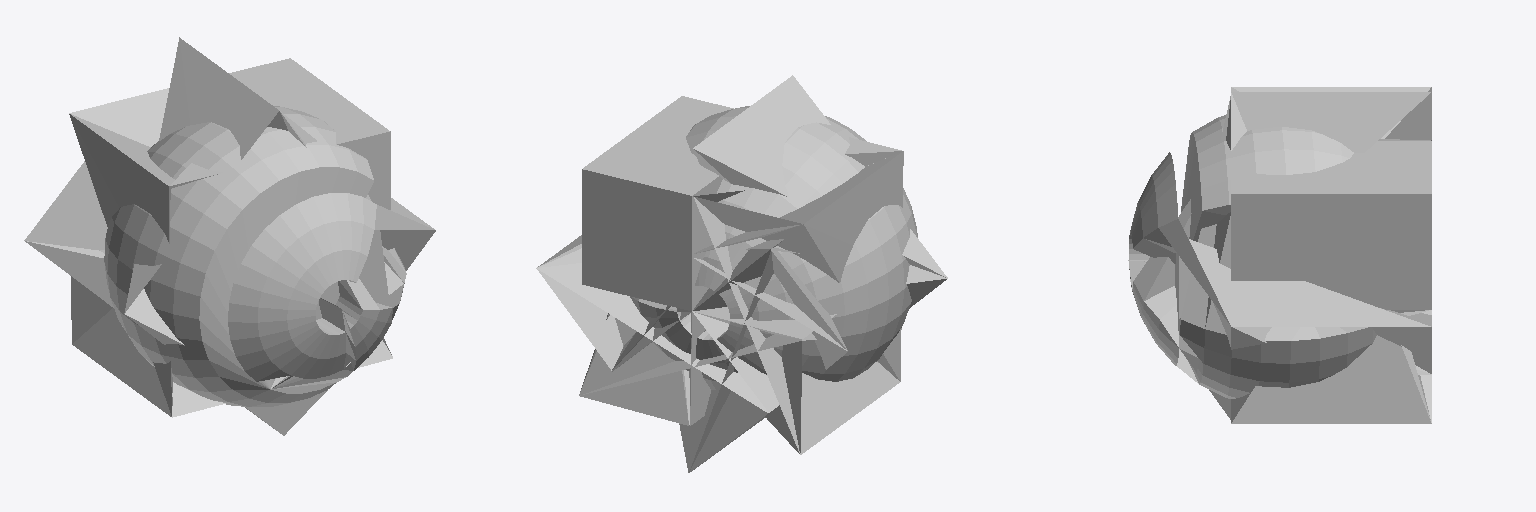
File: creature_models_.obj
3 renders of one model, left to right at view 1: azimuth 30°, elevation 25°; view 2: azimuth 150°, elevation 25°; view 3: azimuth 270°, elevation 25°, orthographic.
Bounding box in the file's own units: 1.19 × 1.19 × 0.9995.